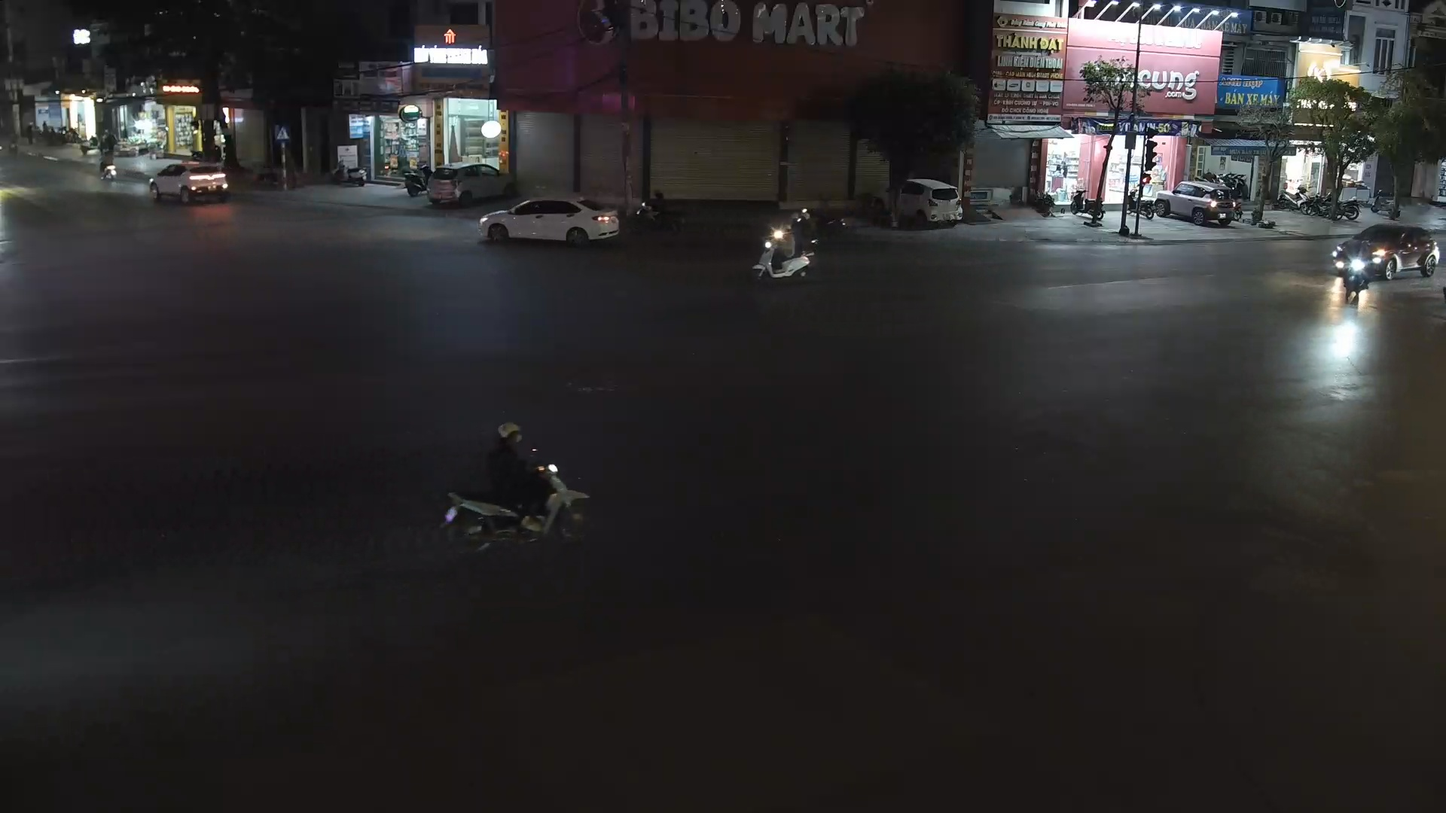car: (477, 197, 622, 248), (1333, 220, 1439, 287), (149, 162, 231, 206)
motorbike: (438, 419, 590, 558), (750, 226, 818, 286)
